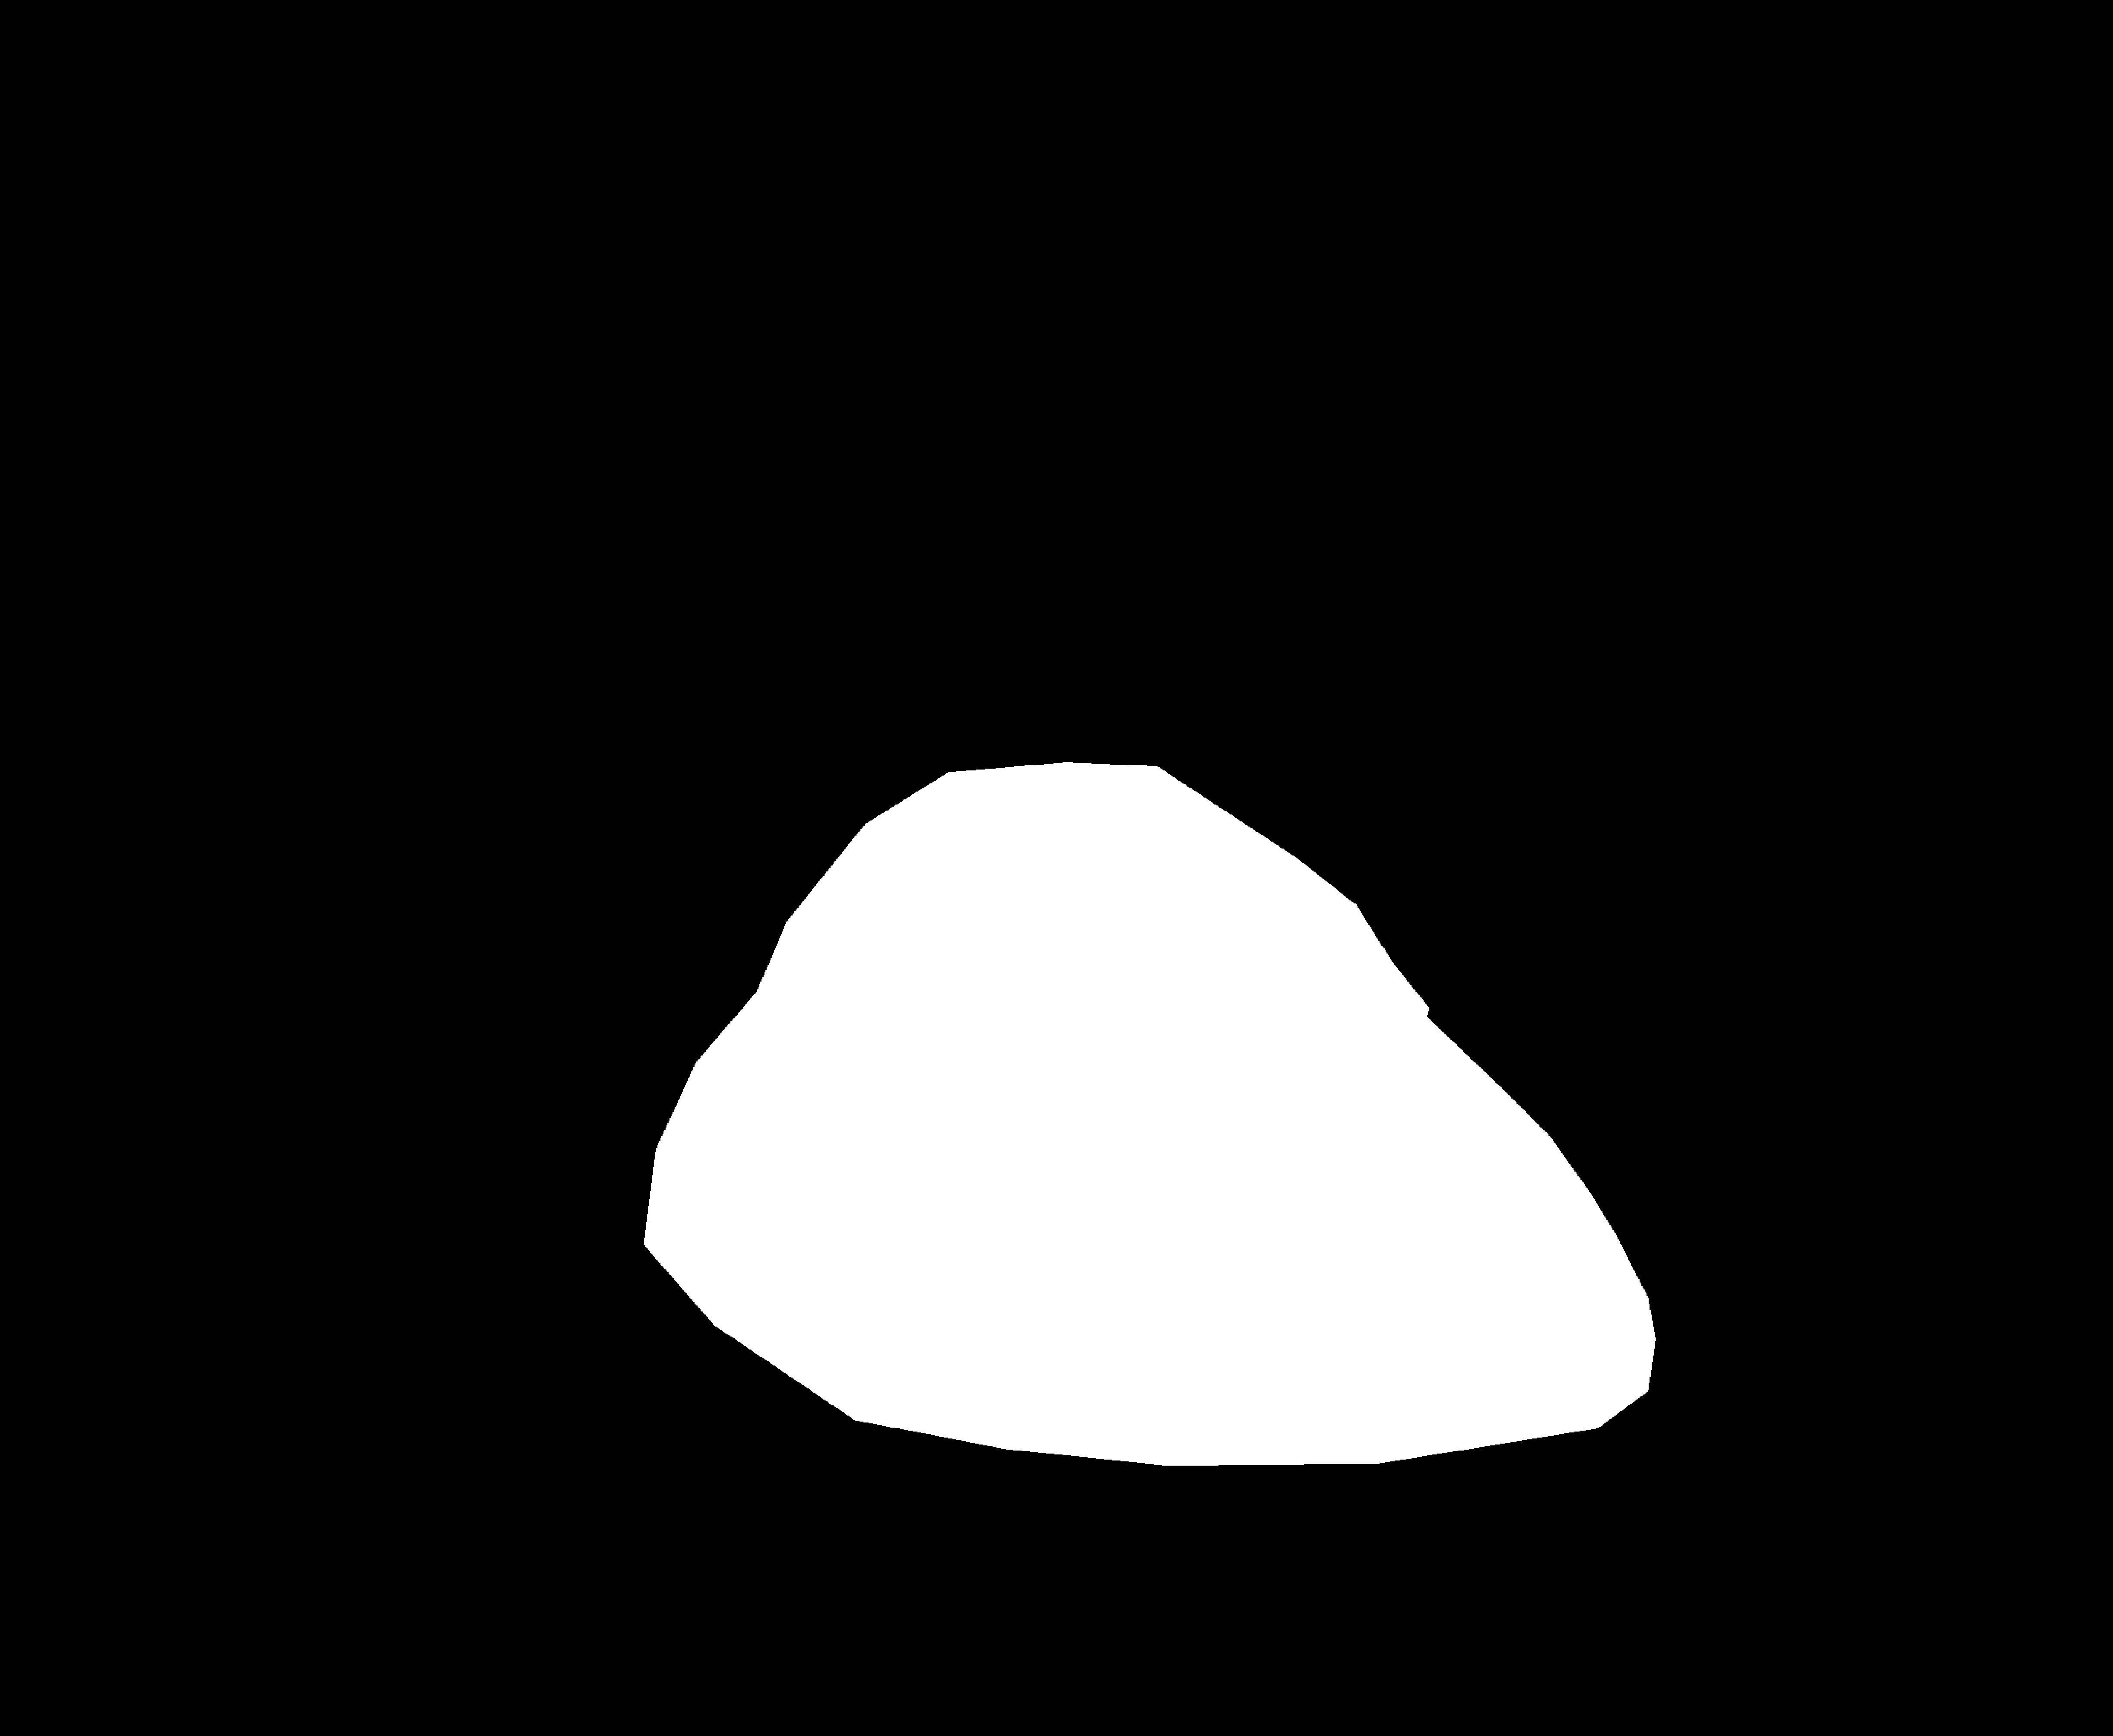heart: (567, 895, 1730, 1534)
left_lung: (109, 232, 932, 1629)
right_lung: (1085, 184, 1857, 1631)
